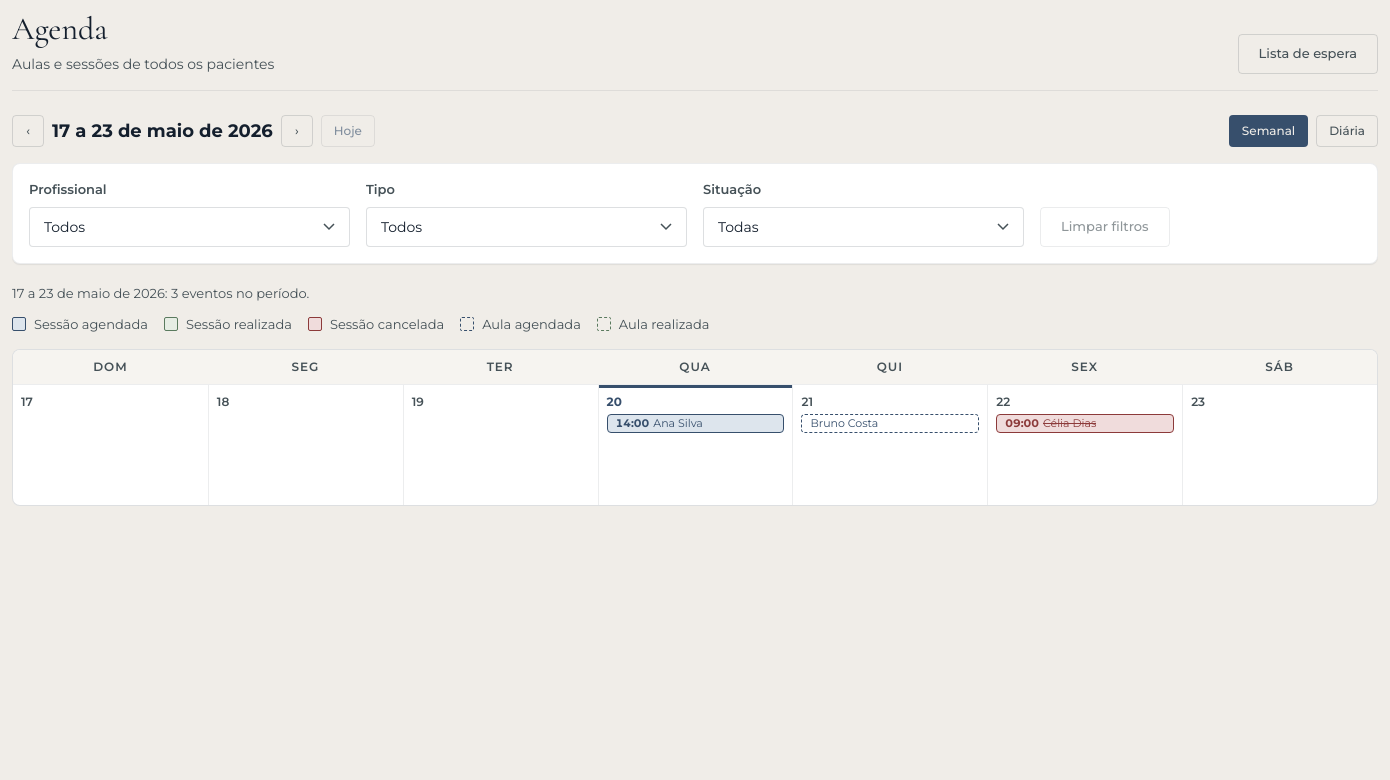
Test: AgendaComponent › detalhe e ações rápidas › should open the detail panel with the event data
Click the button with class "evento" showing "14:00 Ana Silva".
click(696, 424)  # box x1=607 y1=414 x2=784 y2=433
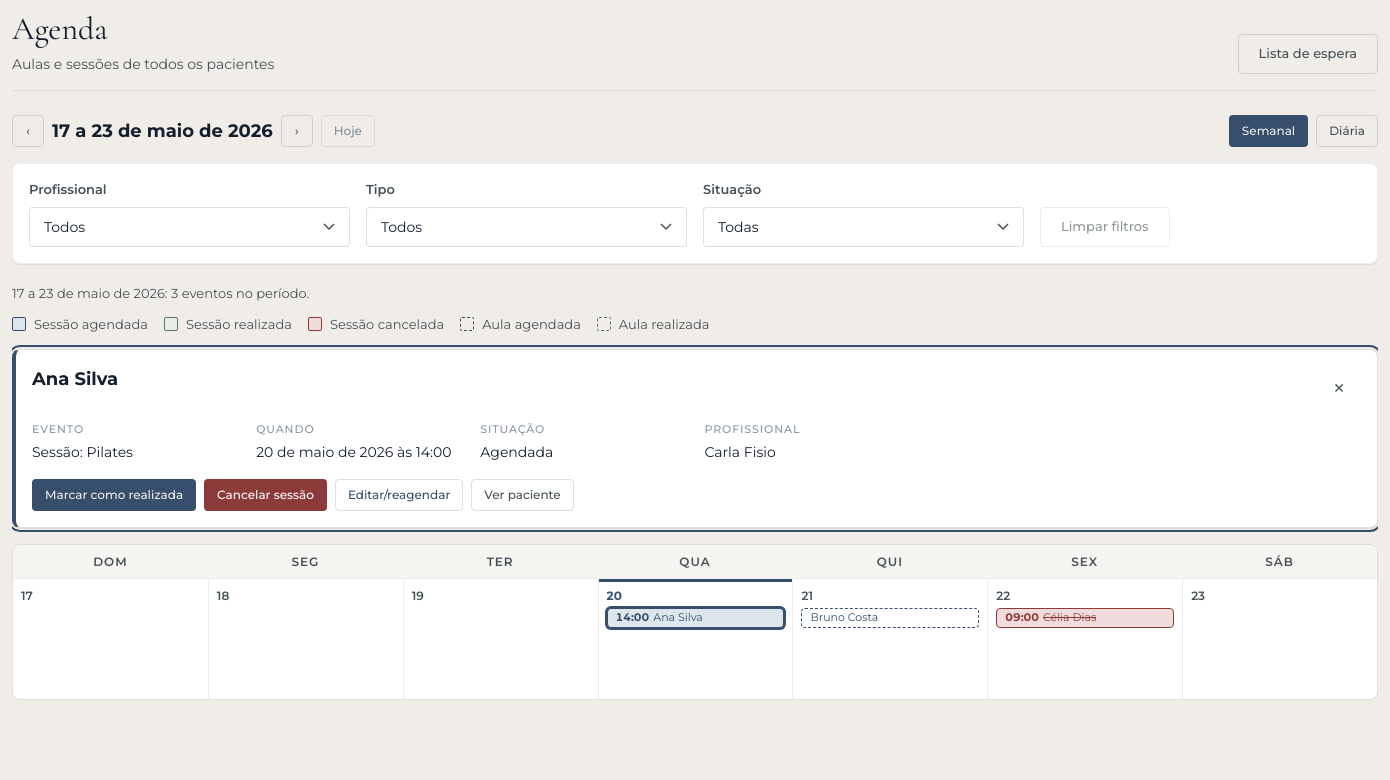
Result: the heading with class "detalhe-titulo" reads "Ana Silva" at x1=32 y1=368 x2=118 y2=390
